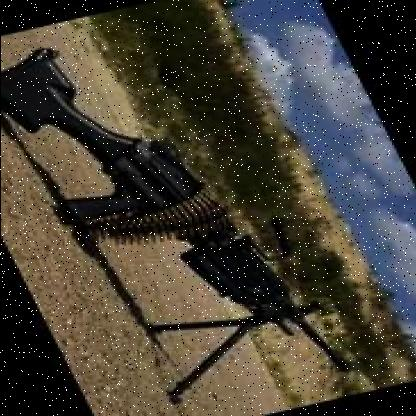rifle: (0, 10, 369, 416)
